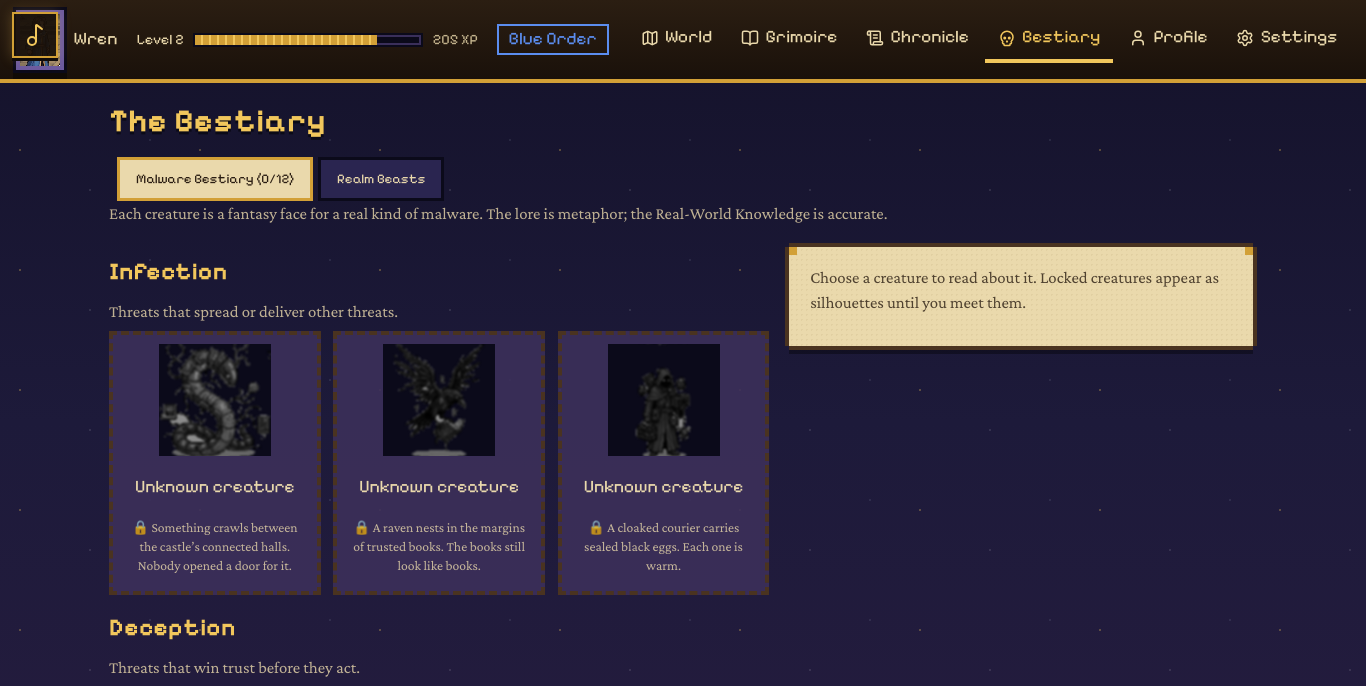
Test: Malware Bestiary in the UI › after Chapter 1 the Worm encounter opens from the Bestiary and shows Real-World Knowledge
The image size is (1366, 686).
Click the button "Unknown creature" at (215,463), box 109,331 -> 321,595
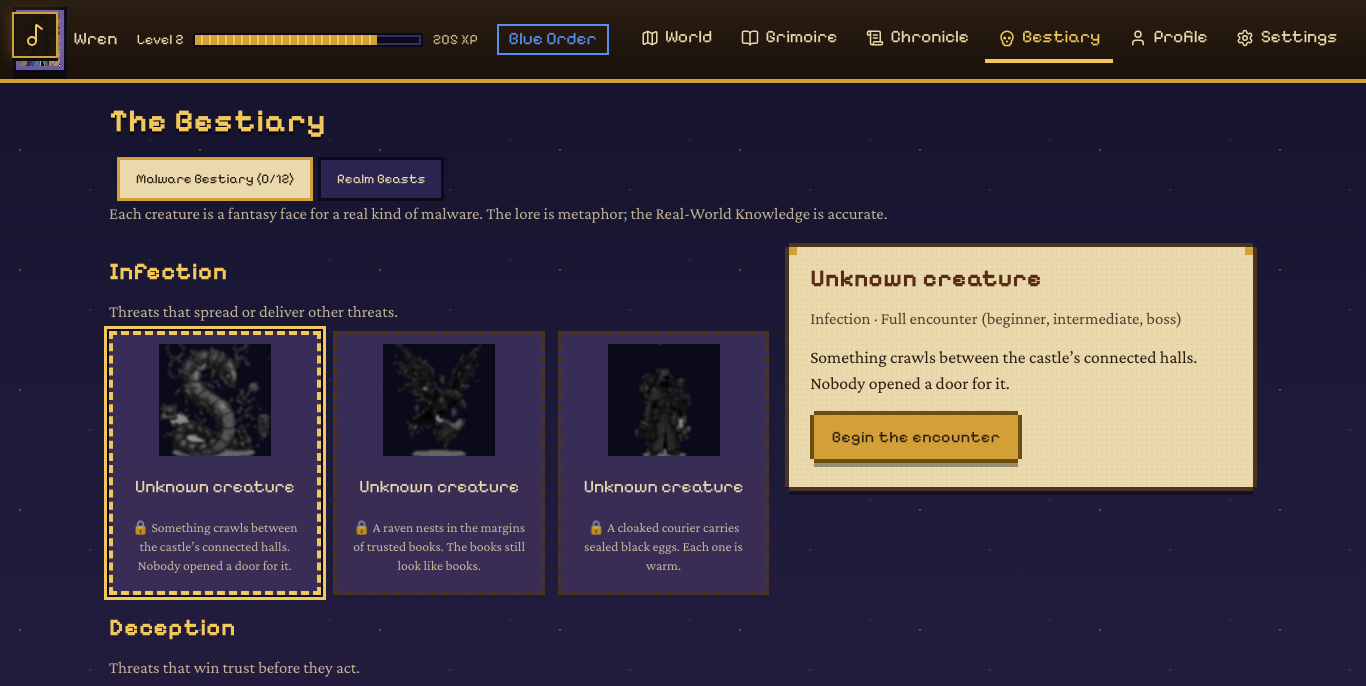
Click the button "Begin the encounter" at (916,437), box 814,415 -> 1018,459
(page scrolled)
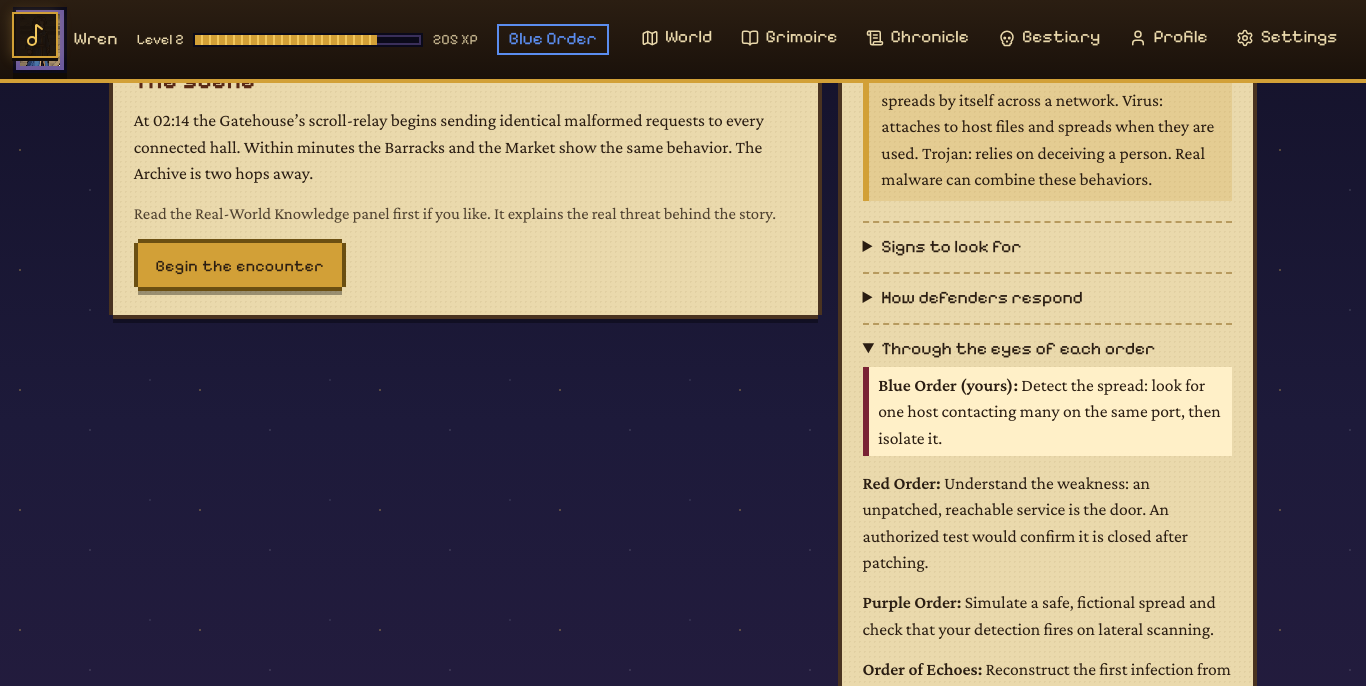
Check: the text "Blue Order (yours):" is shown, box 878,375 -> 1018,395
